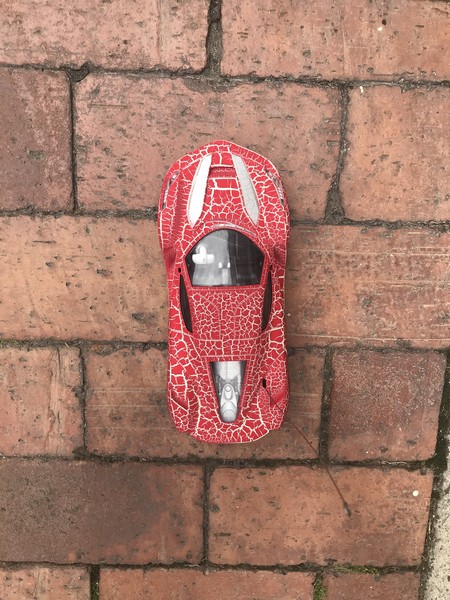RC: (154, 138, 294, 448)
